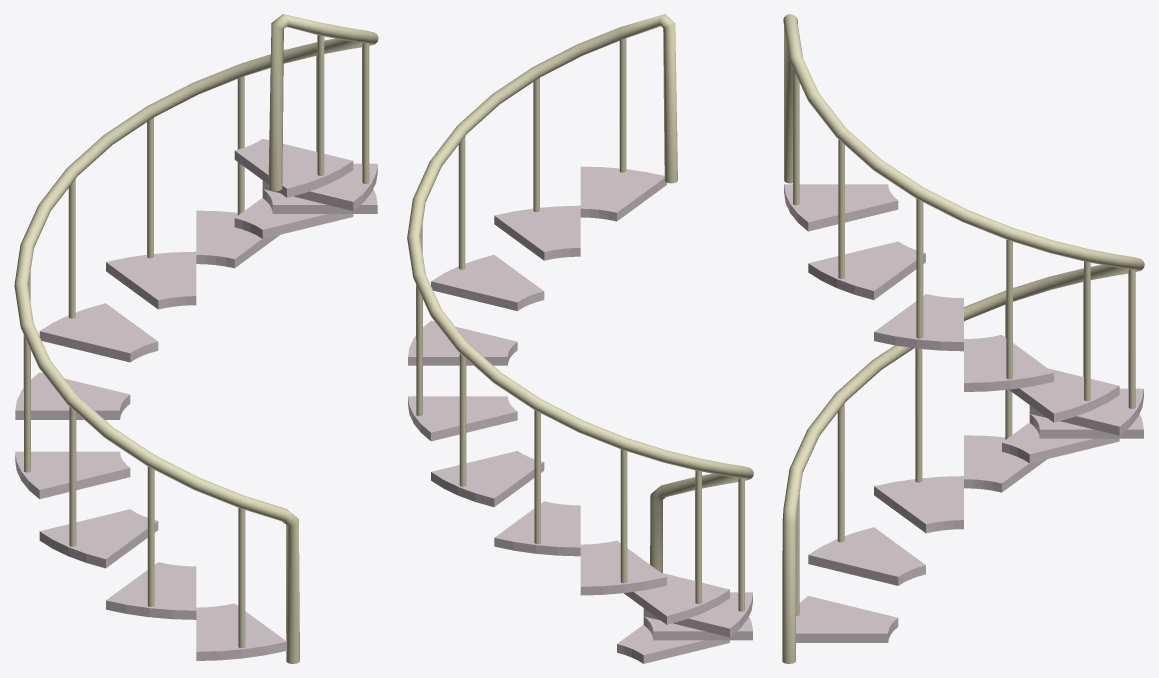
Rendered from spiralstaircase.fbx.
The picture shows the model from 3 angles, left to right: view 1: azimuth 30°, elevation 25°; view 2: azimuth 150°, elevation 25°; view 3: azimuth 270°, elevation 25°; orthographic projection. The views are drawn at different scales.
Visible parts, largest first — view 1: Circle, Plane.001, Plane; view 2: Circle, Plane.001, Plane; view 3: Circle, Plane.001, Plane.
Boxes of the visible parts, x1,y1,x2,y2 form: Circle: (15,138,377,660); Plane.001: (14,14,378,663); Plane: (23,35,369,648); Circle: (408,166,752,663); Plane.001: (407,14,753,572); Plane: (416,38,744,611); Circle: (784,184,1143,642); Plane.001: (782,14,1144,663); Plane: (793,68,1135,616).
Size of the model in its own units: 201 by 395 by 202.
